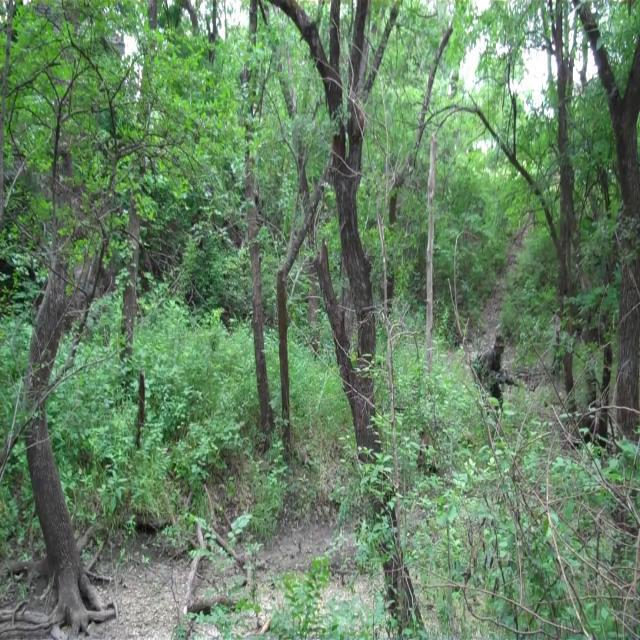MIL_Pax: (468, 333, 515, 410)
